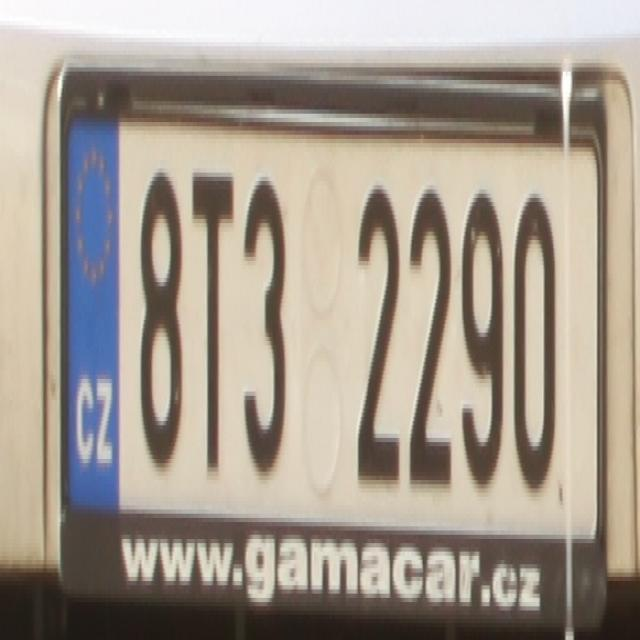0: (511, 181, 558, 501)
2: (404, 176, 454, 484), (353, 177, 400, 480)
3: (240, 164, 288, 472)
8: (135, 152, 183, 472)
9: (459, 181, 506, 501)
T: (189, 156, 236, 472)
